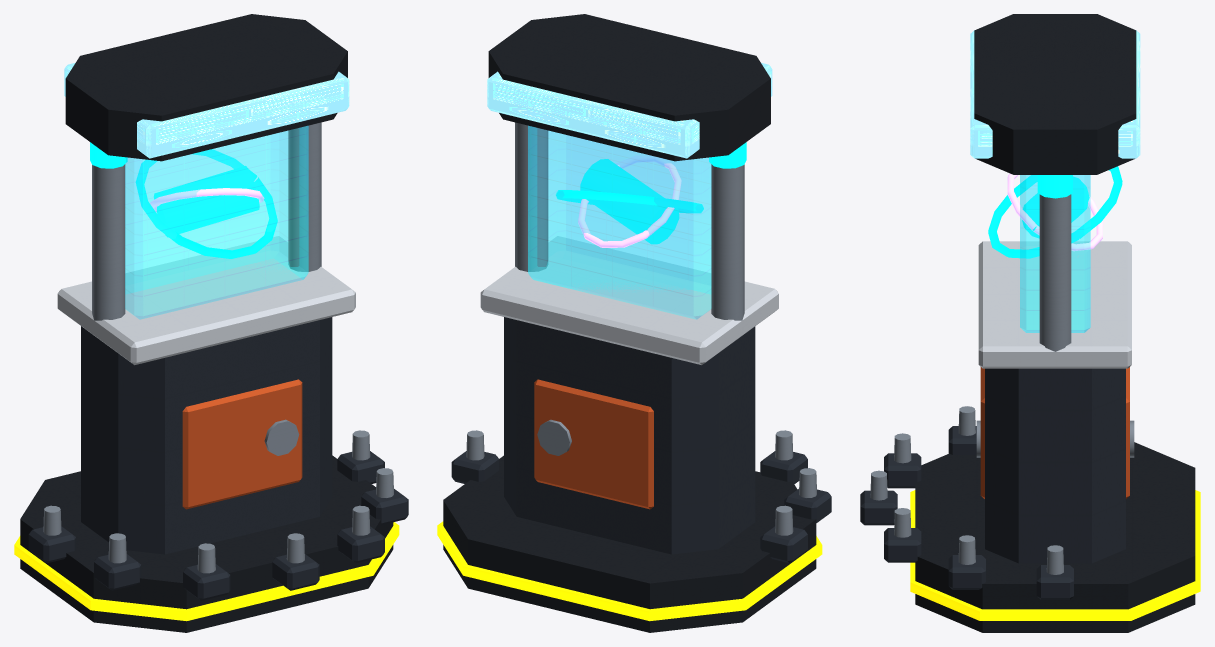
Rendered from prop_set_02_holo_wayfinding_kiosk.glb.
The picture shows the model from 3 angles, left to right: view 1: azimuth 30°, elevation 25°; view 2: azimuth 150°, elevation 25°; view 3: azimuth 270°, elevation 25°; orthographic projection.
Parts seen in each view (by area): view 1: Prop02_carbon_slate, Prop02_gunmetal, Prop02_glass_cyan, Prop02_aero_white, Prop02_steel_machined, Prop02_accent_orange, Prop02_marquee, Prop02_led_cyan, Prop02_led_amber, Prop02_led_uv; view 2: Prop02_gunmetal, Prop02_carbon_slate, Prop02_glass_cyan, Prop02_aero_white, Prop02_steel_machined, Prop02_accent_orange, Prop02_marquee, Prop02_led_cyan, Prop02_led_amber, Prop02_led_uv; view 3: Prop02_gunmetal, Prop02_carbon_slate, Prop02_aero_white, Prop02_steel_machined, Prop02_glass_cyan, Prop02_led_amber, Prop02_led_cyan, Prop02_marquee, Prop02_accent_orange, Prop02_led_uv.
Part boxes in pixels (box(x1,y1,x2,y2)): Prop02_carbon_slate: box(28, 317, 408, 600); Prop02_gunmetal: box(20, 14, 393, 632); Prop02_glass_cyan: box(125, 126, 308, 319); Prop02_aero_white: box(57, 236, 355, 365); Prop02_steel_machined: box(43, 122, 393, 573); Prop02_accent_orange: box(182, 379, 302, 509); Prop02_marquee: box(64, 62, 349, 158); Prop02_led_cyan: box(90, 142, 277, 258); Prop02_led_amber: box(14, 522, 399, 621); Prop02_led_uv: box(150, 188, 264, 212); Prop02_gunmetal: box(443, 14, 816, 632); Prop02_carbon_slate: box(451, 317, 831, 563); Prop02_glass_cyan: box(528, 125, 711, 319); Prop02_aero_white: box(480, 236, 778, 364); Prop02_steel_machined: box(466, 122, 816, 535); Prop02_accent_orange: box(534, 379, 653, 509); Prop02_marquee: box(487, 62, 772, 158); Prop02_led_cyan: box(556, 142, 746, 244); Prop02_led_amber: box(437, 521, 822, 621); Prop02_led_uv: box(578, 155, 681, 247); Prop02_gunmetal: box(915, 14, 1195, 632); Prop02_carbon_slate: box(860, 368, 1125, 599); Prop02_aero_white: box(978, 241, 1131, 368); Prop02_steel_machined: box(870, 194, 1134, 574); Prop02_glass_cyan: box(1020, 175, 1090, 332); Prop02_led_amber: box(910, 490, 1200, 620); Prop02_led_cyan: box(988, 166, 1122, 258); Prop02_marquee: box(970, 30, 1140, 158); Prop02_accent_orange: box(980, 367, 1129, 498); Prop02_led_uv: box(1007, 173, 1103, 251).
Size of the model in its own units: 1.88 by 2.6 by 1.64.
10 materials, 10 textured.
